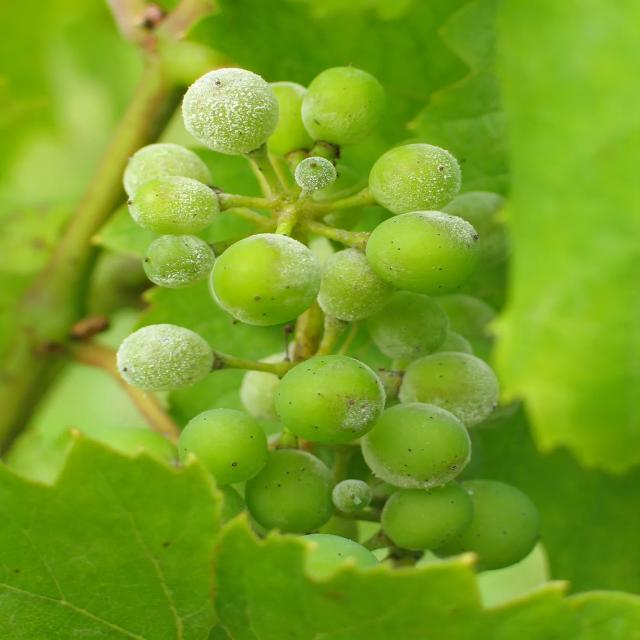Powdery Mildew: (339, 134, 517, 418), (180, 66, 279, 156), (114, 322, 213, 392)
